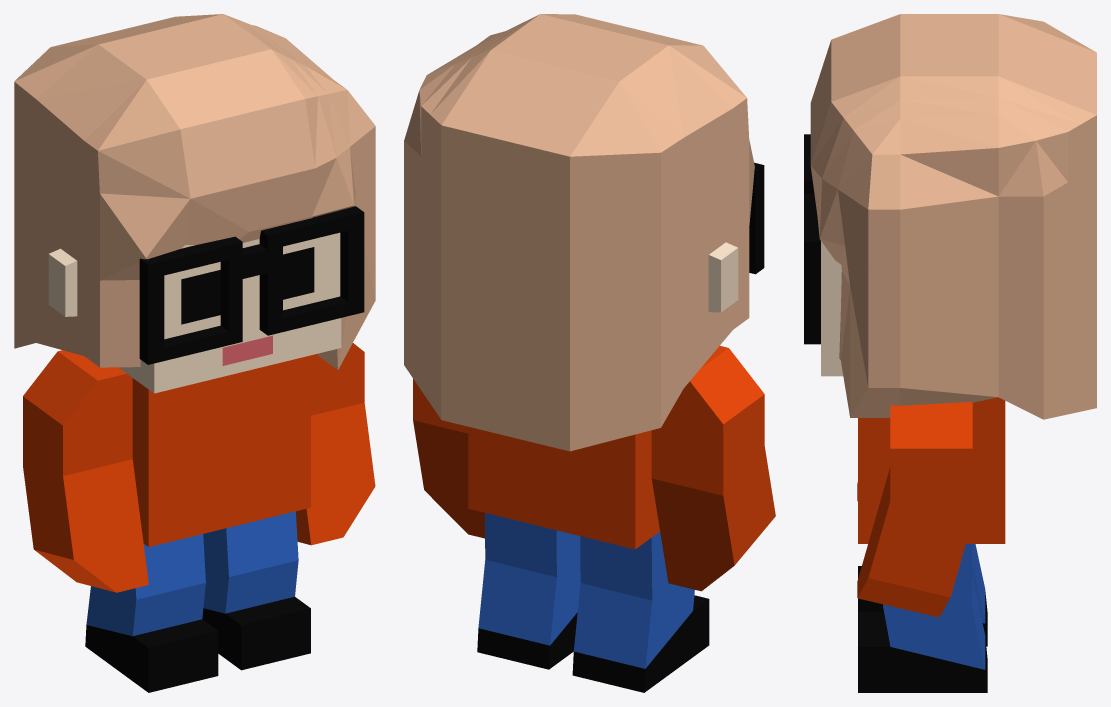
Rendered from joa.fbx.
The picture shows the model from 3 angles, left to right: view 1: azimuth 30°, elevation 25°; view 2: azimuth 150°, elevation 25°; view 3: azimuth 270°, elevation 25°; orthographic projection. The views are drawn at different scales.
Parts seen in each view (by area): view 1: Hair, body, armRight, head, glasses, legRight, legLeft, armLeft; view 2: Hair, armRight, body, legRight, legLeft, armLeft, head, glasses; view 3: Hair, armLeft, legLeft, body, glasses, head, legRight.
Boxes of the visible parts, x1,y1,x2,y2 form: Hair: (14,14,375,369); body: (132,355,310,546); armRight: (23,350,148,592); head: (48,232,341,393); glasses: (139,206,364,364); legRight: (85,534,218,692); legLeft: (202,511,310,670); armLeft: (296,343,375,545); Hair: (404,14,754,451); armRight: (651,346,775,591); body: (468,426,659,549); legRight: (572,532,709,692); legLeft: (477,513,580,669); armLeft: (413,379,484,538); head: (708,242,738,312); glasses: (749,162,764,274); Hair: (810,14,1096,419); armLeft: (857,402,972,617); legLeft: (858,544,987,692); body: (858,397,1005,543); glasses: (804,134,820,344); head: (821,241,843,376); legRight: (858,544,987,646).
Bounding box in the file's own units: 48.37 × 90.87 × 39.73.
